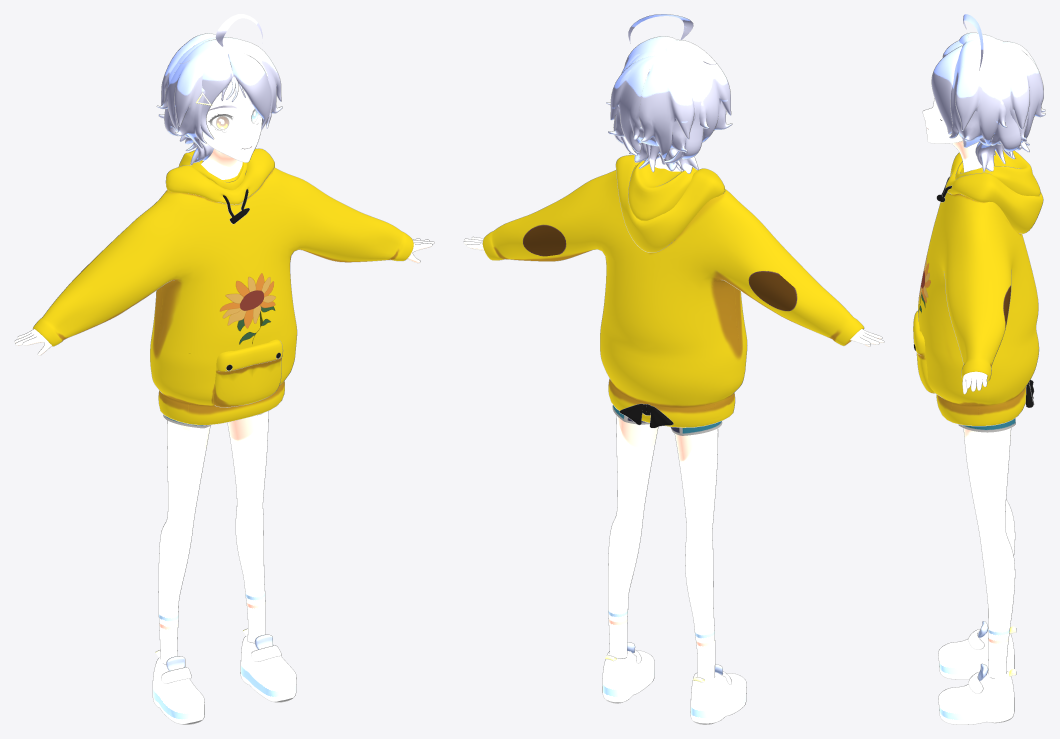
The model's file is ai_ohto.glb.
The picture shows the model from 3 angles, left to right: view 1: azimuth 30°, elevation 25°; view 2: azimuth 150°, elevation 25°; view 3: azimuth 270°, elevation 25°; orthographic projection.
Visible parts, largest first — view 1: AiOhtoLow_0; view 2: AiOhtoLow_0; view 3: AiOhtoLow_0.
Part boxes in pixels (box(x1,y1,x2,y2)): AiOhtoLow_0: box(14, 14, 434, 724); AiOhtoLow_0: box(463, 14, 884, 724); AiOhtoLow_0: box(913, 14, 1045, 724).
Size of the model in its own units: 0.9269 by 1.45 by 0.2546.
Materials: 13 (1 with a texture image).
